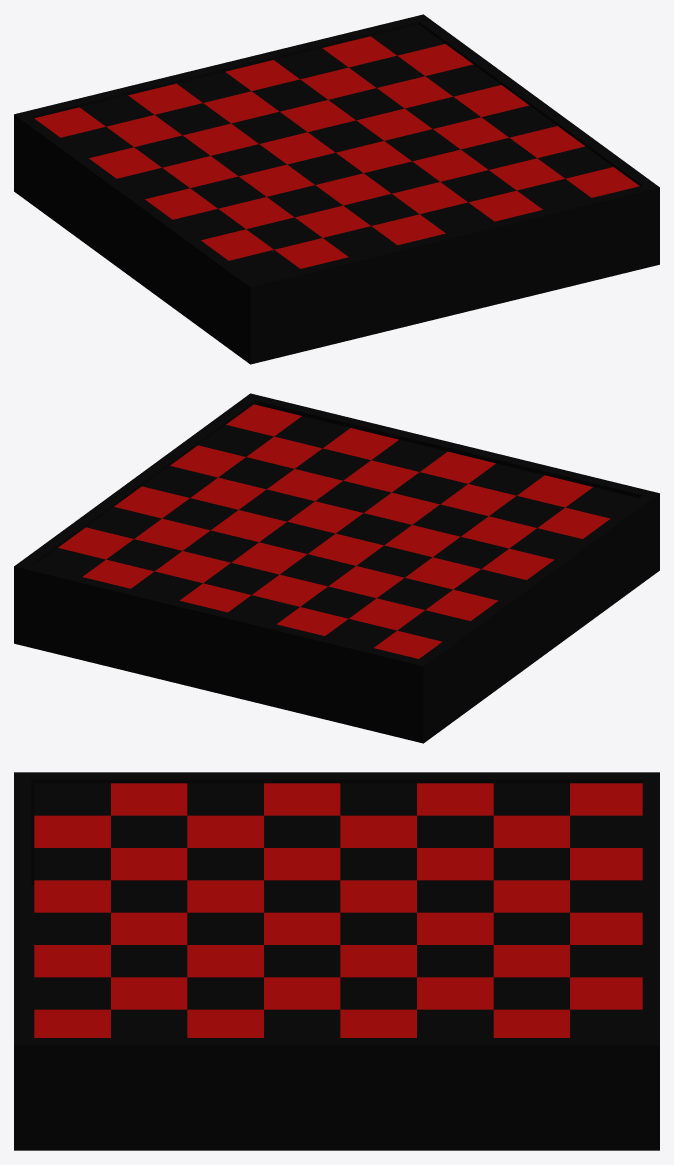
The model's file is board-with-cells-darker.glb.
The picture shows the model from 3 angles, top to bottom: view 1: azimuth 30°, elevation 25°; view 2: azimuth 150°, elevation 25°; view 3: azimuth 270°, elevation 25°; orthographic projection. The views are drawn at different scales.
Parts seen in each view (by area): view 1: Frame, Cube.009, Cube.014, Cube.025, Cube.034, Cube.041, Cube.050, Cube.017, Cube.026, Cube.027, Cube.030, Cube.033 (+53 smaller); view 2: Frame, Cube.010, Cube.026, Cube.034, Cube.046, Cube.050, Cube.002, Cube.003, Cube.011, Cube.012, Cube.018, Cube.019 (+53 smaller); view 3: Frame, Cube, Cube.001, Cube.002, Cube.003, Cube.004, Cube.005, Cube.006, Cube.008, Cube.011, Cube.014, Cube.016 (+53 smaller).
Boxes of the visible parts, x1,y1,x2,y2 form: Frame: [14, 14, 659, 364]; Cube.009: [246, 217, 322, 249]; Cube.014: [489, 158, 564, 190]; Cube.025: [190, 176, 266, 208]; Cube.034: [211, 144, 286, 176]; Cube.041: [134, 135, 210, 167]; Cube.050: [155, 103, 230, 135]; Cube.017: [218, 197, 294, 229]; Cube.026: [239, 164, 314, 196]; Cube.027: [287, 152, 363, 184]; Cube.030: [433, 117, 508, 149]; Cube.033: [162, 156, 238, 188]; Frame: [14, 393, 659, 743]; Cube.010: [440, 484, 516, 516]; Cube.026: [384, 525, 460, 557]; Cube.034: [356, 545, 432, 577]; Cube.046: [134, 518, 210, 550]; Cube.050: [300, 586, 376, 618]; Cube.002: [468, 463, 544, 495]; Cube.003: [420, 451, 495, 483]; Cube.011: [392, 472, 467, 504]; Cube.012: [343, 460, 419, 492]; Cube.018: [412, 504, 488, 536]; Cube.019: [364, 492, 439, 524]; Frame: [14, 772, 659, 1150]; Cube: [34, 783, 110, 815]; Cube.001: [34, 815, 110, 847]; Cube.002: [34, 848, 110, 880]; Cube.003: [34, 880, 110, 912]; Cube.004: [34, 912, 110, 944]; Cube.005: [34, 945, 110, 977]; Cube.006: [34, 977, 110, 1009]; Cube.008: [111, 783, 187, 815]; Cube.011: [111, 880, 187, 912]; Cube.014: [111, 977, 187, 1009]; Cube.016: [187, 783, 263, 815].
Bounding box in the file's own units: 2.11 × 0.38 × 2.11.
